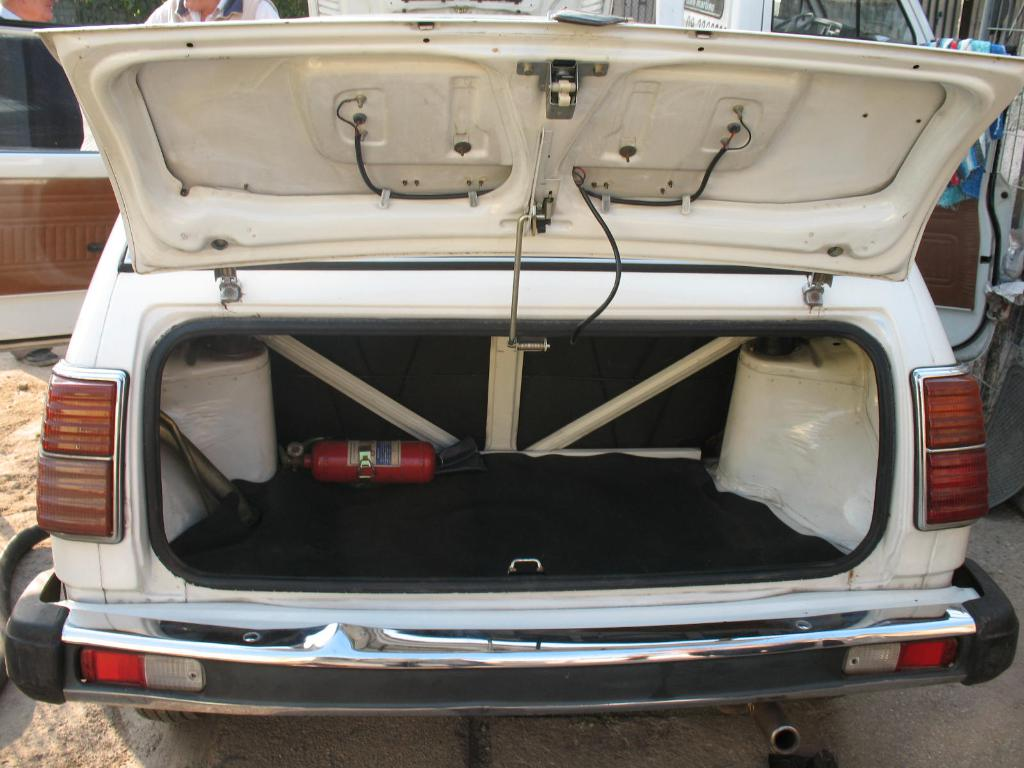Car: (25, 0, 1008, 746)
